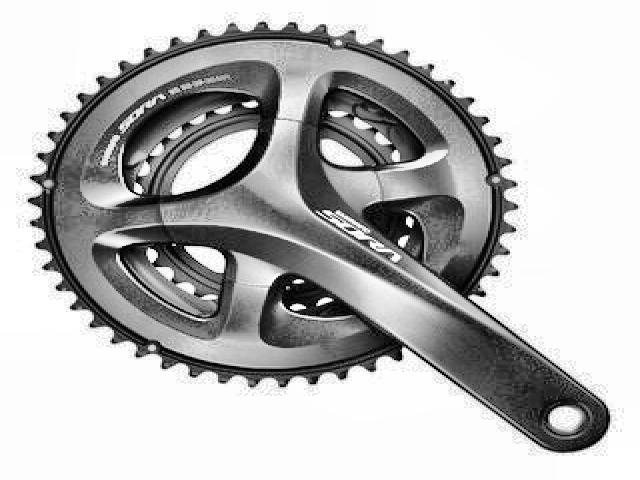cranks_set: (23, 17, 612, 454)
